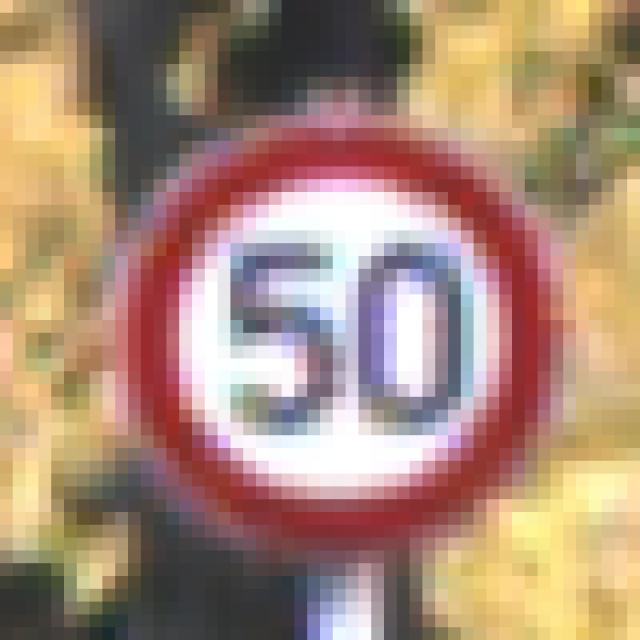Limite-50: (116, 109, 564, 555)
